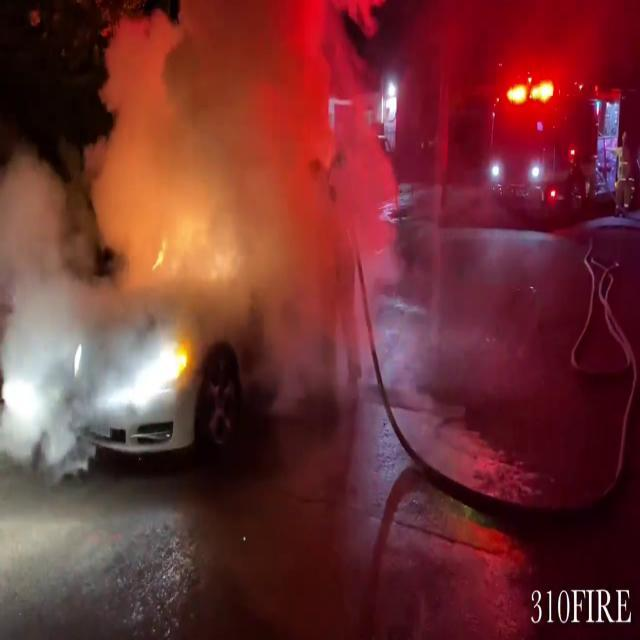Smoke: (0, 1, 365, 456)
